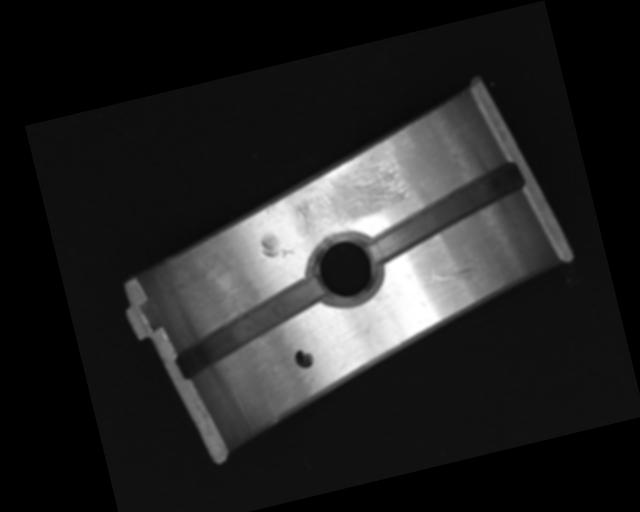blot: (292, 347, 316, 371)
bruise: (257, 227, 296, 263), (262, 199, 280, 215)
gap: (165, 274, 334, 382), (358, 160, 532, 264)
hole: (302, 224, 390, 315)
nick: (421, 262, 479, 291)
scratch: (280, 146, 417, 242)
